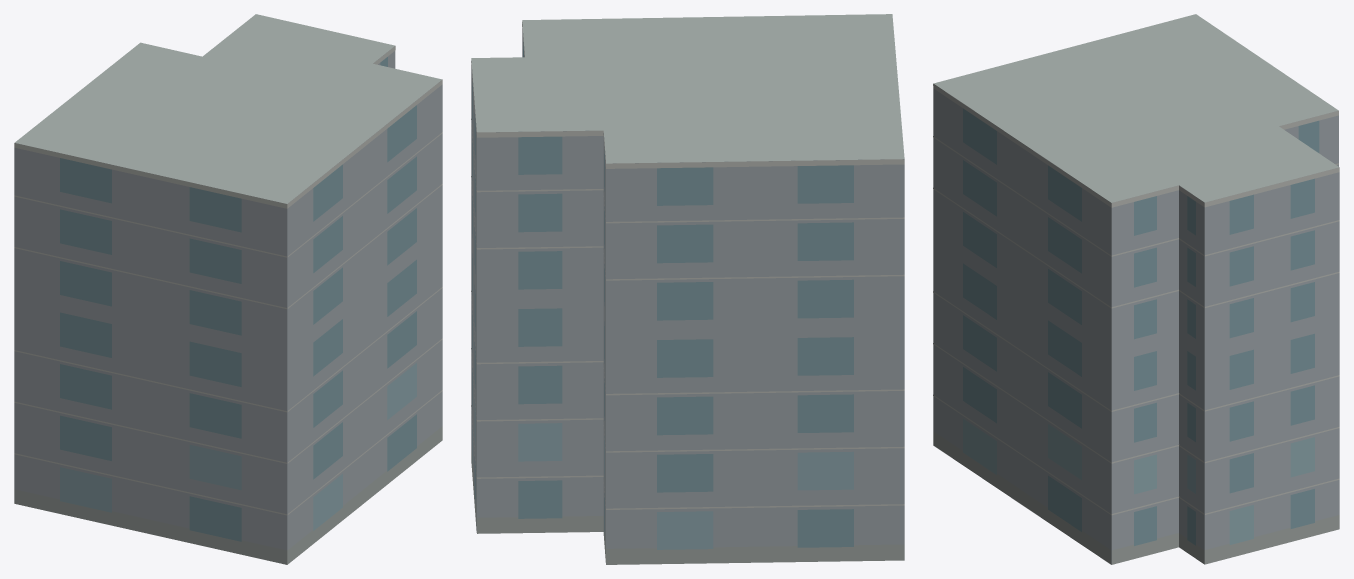
File: survey-upis-33030332.glb
3 renders of one model, left to right at view 1: azimuth 30°, elevation 25°; view 2: azimuth 150°, elevation 25°; view 3: azimuth 270°, elevation 25°, orthographic. The views are drawn at different scales.
Parts seen in each view (by area): view 1: survey-upis-33030332.tmp; view 2: survey-upis-33030332.tmp; view 3: survey-upis-33030332.tmp.
Part boxes in pixels (bbox=[...]): survey-upis-33030332.tmp: bbox=[14, 14, 442, 564]; survey-upis-33030332.tmp: bbox=[471, 14, 904, 564]; survey-upis-33030332.tmp: bbox=[933, 14, 1339, 564].
Bounding box in the file's own units: 20.34 × 18.15 × 18.48.
